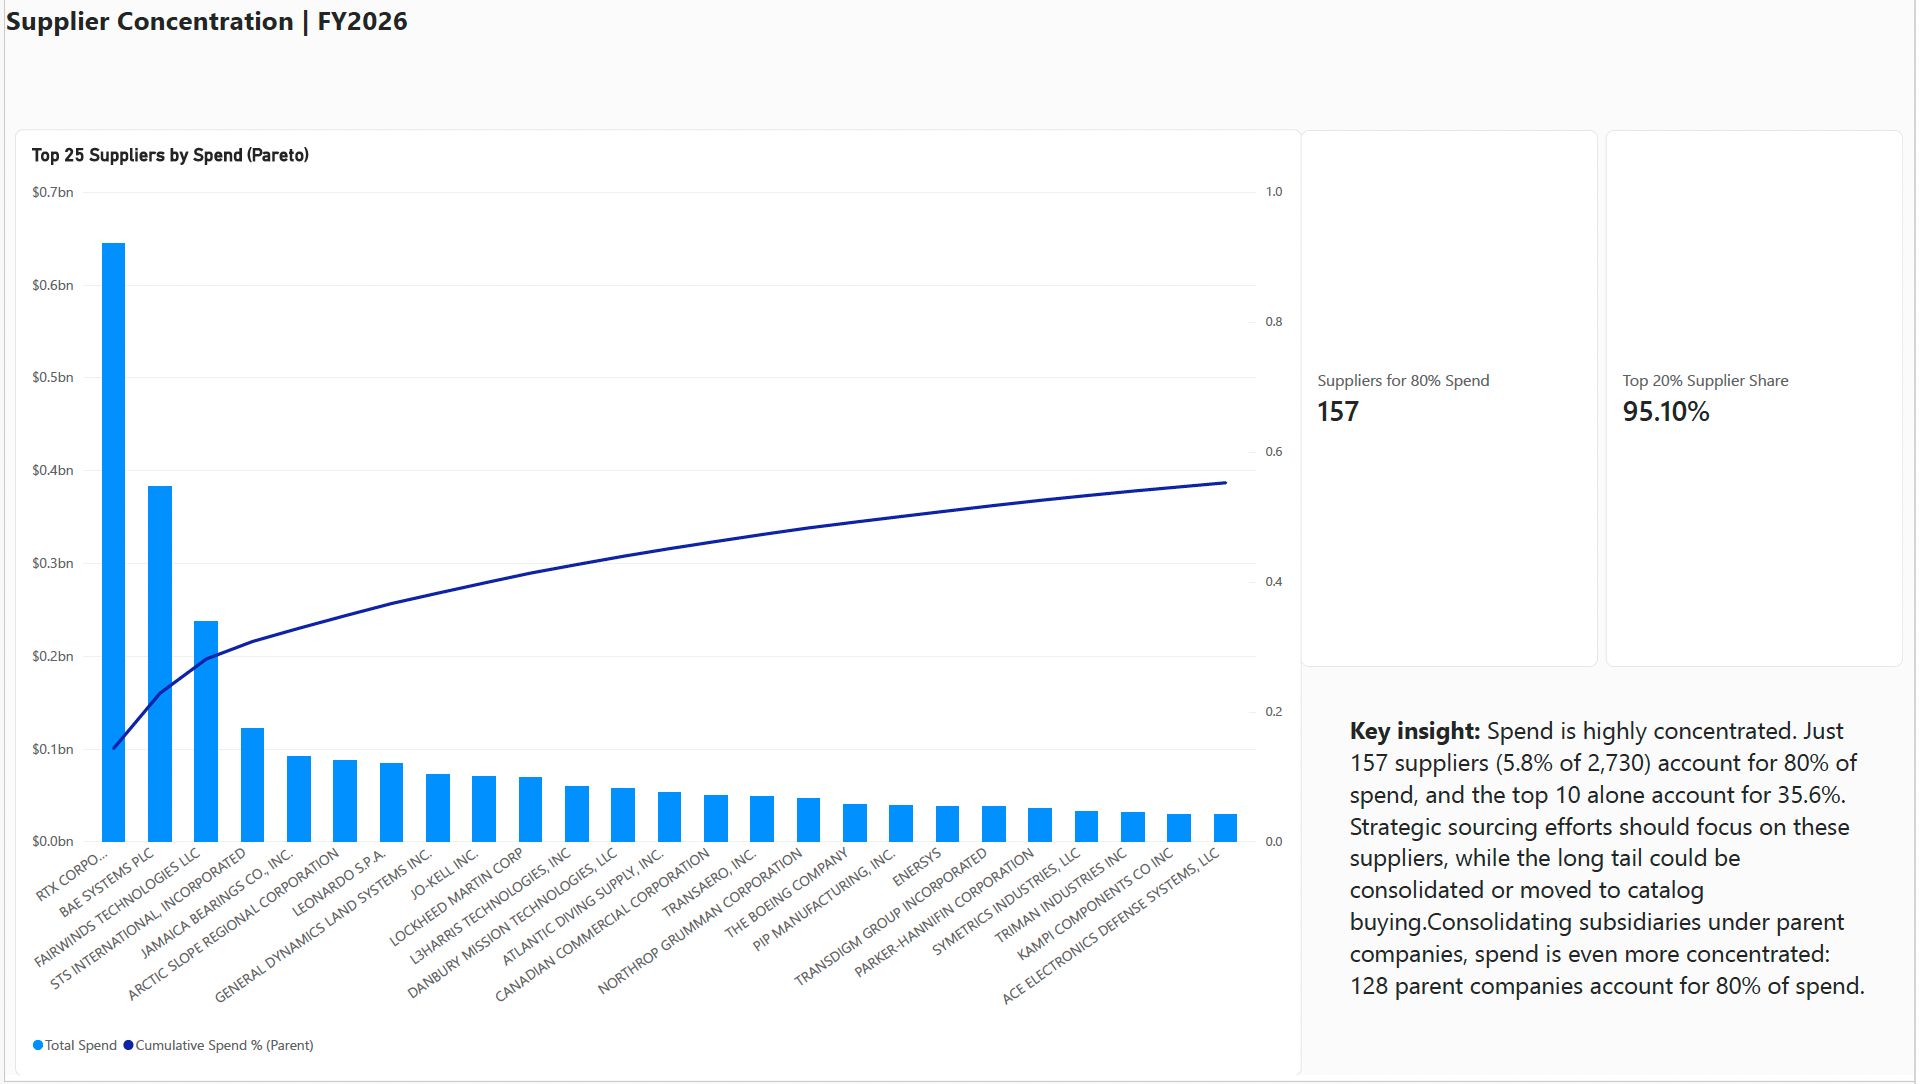

What the dashboard file says about the page in this screenshot:
{"tool":"powerbi","page":{"name":"Supplier Pareto","canvas":[1920,1080],"ordinal":1},"visuals":[{"type":"lineClusteredColumnComboChart","title":"Top 25 Suppliers by Spend (Pareto)","fields":{"Category":["Contracts.Parent Company"],"Y":["Contracts.Total Spend"],"Y2":["Contracts.Cumulative Spend % (Parent)"]},"box":[8.9,128.6,1294.8,953.3],"z":0},{"type":"cardVisual","fields":{"Data":["Contracts.Suppliers for 80% Spend","Contracts.Top 20% Supplier Share"]},"box":[1303.3,130,607.5,541],"z":1000},{"type":"textbox","box":[0,0,1920,129],"z":2000},{"type":"textbox","box":[1313,878,607,202],"z":3000},{"type":"textbox","box":[1351.7,716.7,525,326.7],"z":4000}]}

Visuals, with their boxes in screenshot pixels (x1, y1, x2, y2), scaled from the page's 1920x1080 canvas onto the 1922x1084 screenshot:
"Top 25 Suppliers by Spend (Pareto)" lineClusteredColumnComboChart: {"x1": 9, "y1": 129, "x2": 1305, "y2": 1083}
cardVisual - Contracts.Suppliers for 80% Spend x Contracts.Top 20% Supplier Share: {"x1": 1305, "y1": 130, "x2": 1913, "y2": 673}
textbox: {"x1": 0, "y1": 0, "x2": 1921, "y2": 129}
textbox: {"x1": 1314, "y1": 881, "x2": 1921, "y2": 1083}
textbox: {"x1": 1353, "y1": 719, "x2": 1879, "y2": 1047}
